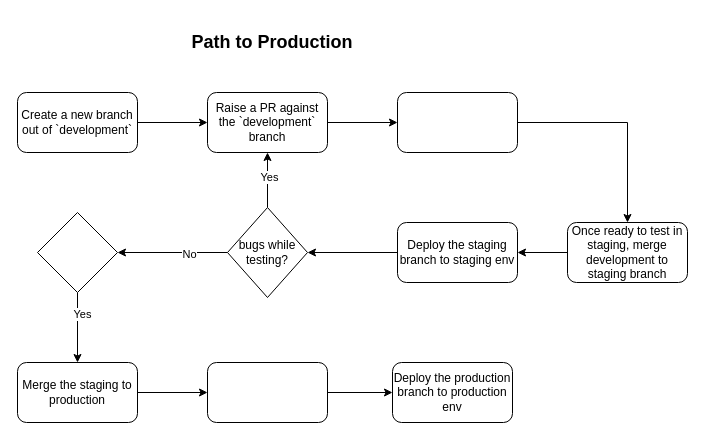
Image size: 705x440. Some labels were removed from this diagram. The centre of each missing label's shape, as x and y in pixels:
"Post review, the code will be then merged to development" goes at (457,122).
"Ready to release?" goes at (77,252).
"Tag the production branch with release no." goes at (267,392).
